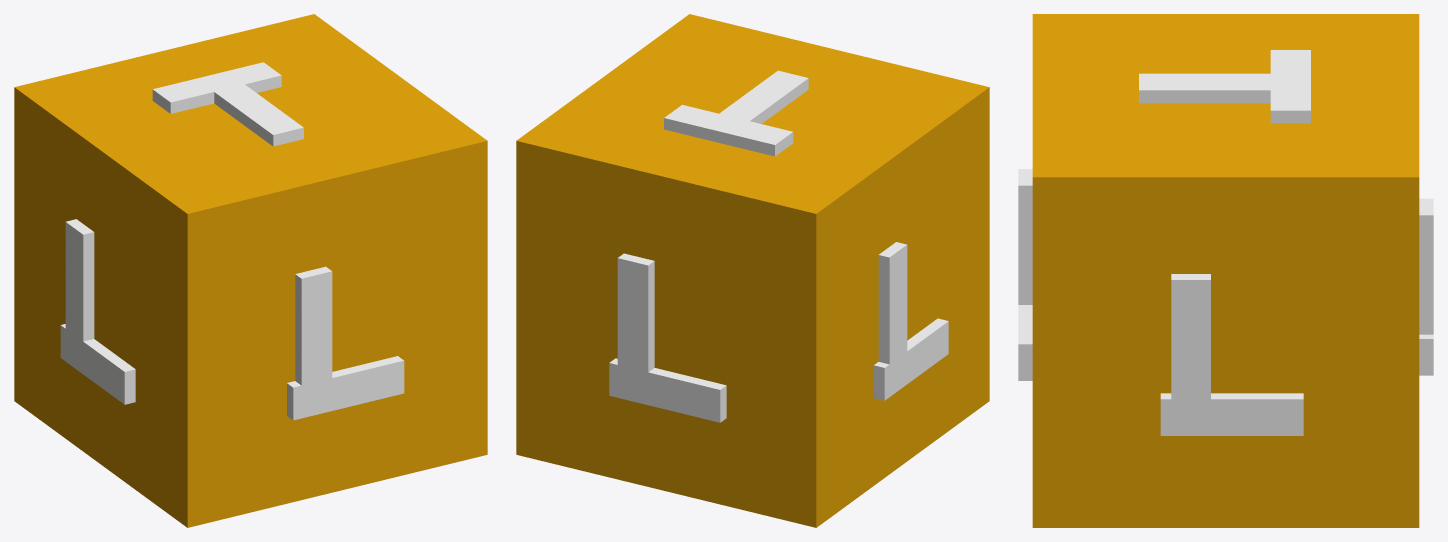
Rendered from TARGET_0.glb.
3 views of the same model, side by side, from view 1: azimuth 30°, elevation 25°; view 2: azimuth 150°, elevation 25°; view 3: azimuth 270°, elevation 25° (orthographic). The views are drawn at different scales.
Visible parts, largest first — view 1: TARGET_HIGH_0; view 2: TARGET_HIGH_0; view 3: TARGET_HIGH_0.
Boxes of the visible parts, x1,y1,x2,y2 form: TARGET_HIGH_0: (14, 14, 487, 527); TARGET_HIGH_0: (516, 14, 989, 527); TARGET_HIGH_0: (1018, 14, 1433, 527).
Bounding box in the file's own units: 2.15 × 2.15 × 2.15.
